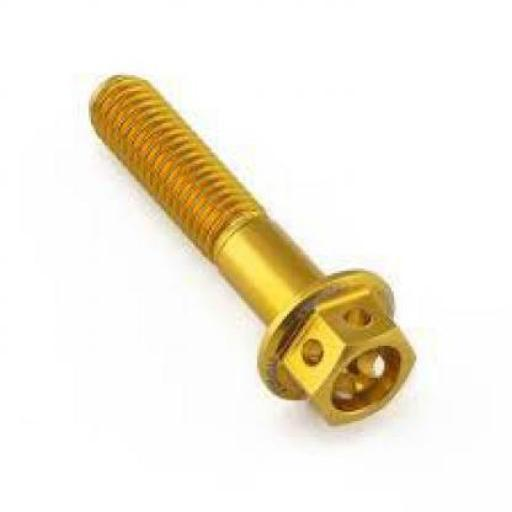Bolt: (88, 74, 417, 426)
